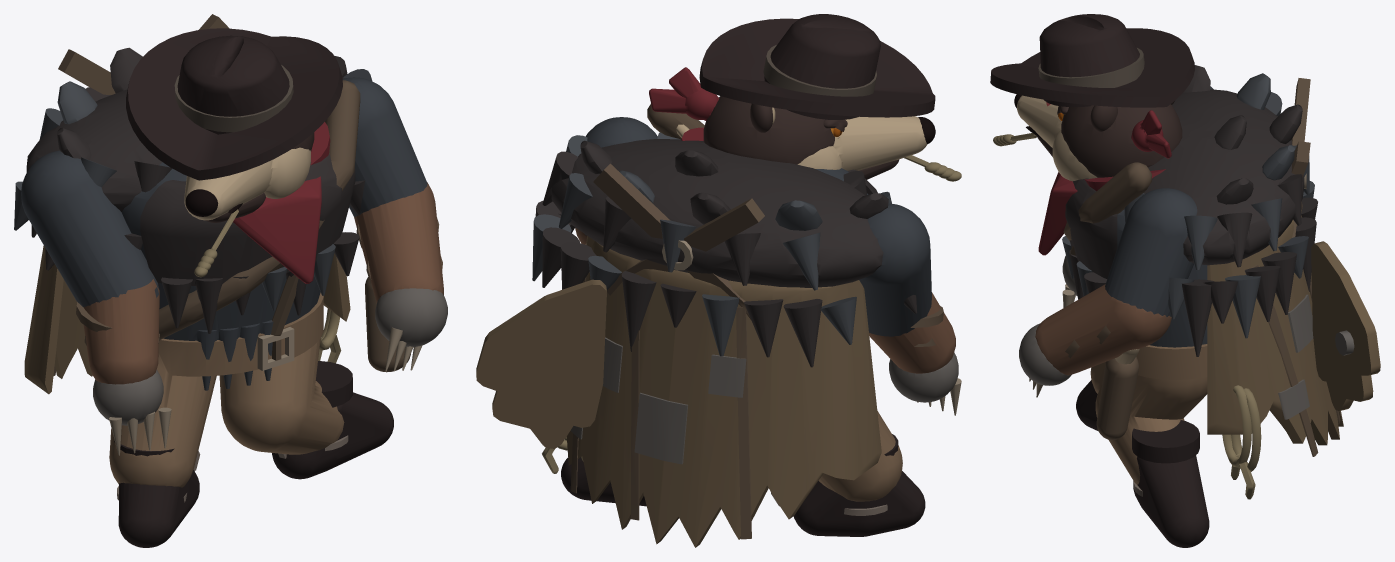
The model's file is badlander.glb.
The picture shows the model from 3 angles, left to right: view 1: azimuth 30°, elevation 25°; view 2: azimuth 150°, elevation 25°; view 3: azimuth 270°, elevation 25°; orthographic projection. The views are drawn at different scales.
Visible parts, largest first — view 1: creature; view 2: creature; view 3: creature.
Part boxes in pixels (x1,y1,x2,y2): creature: [14, 14, 447, 547]; creature: [476, 14, 961, 547]; creature: [990, 14, 1380, 547].
Bounding box in the file's own units: 0.809 × 1 × 0.8024.
